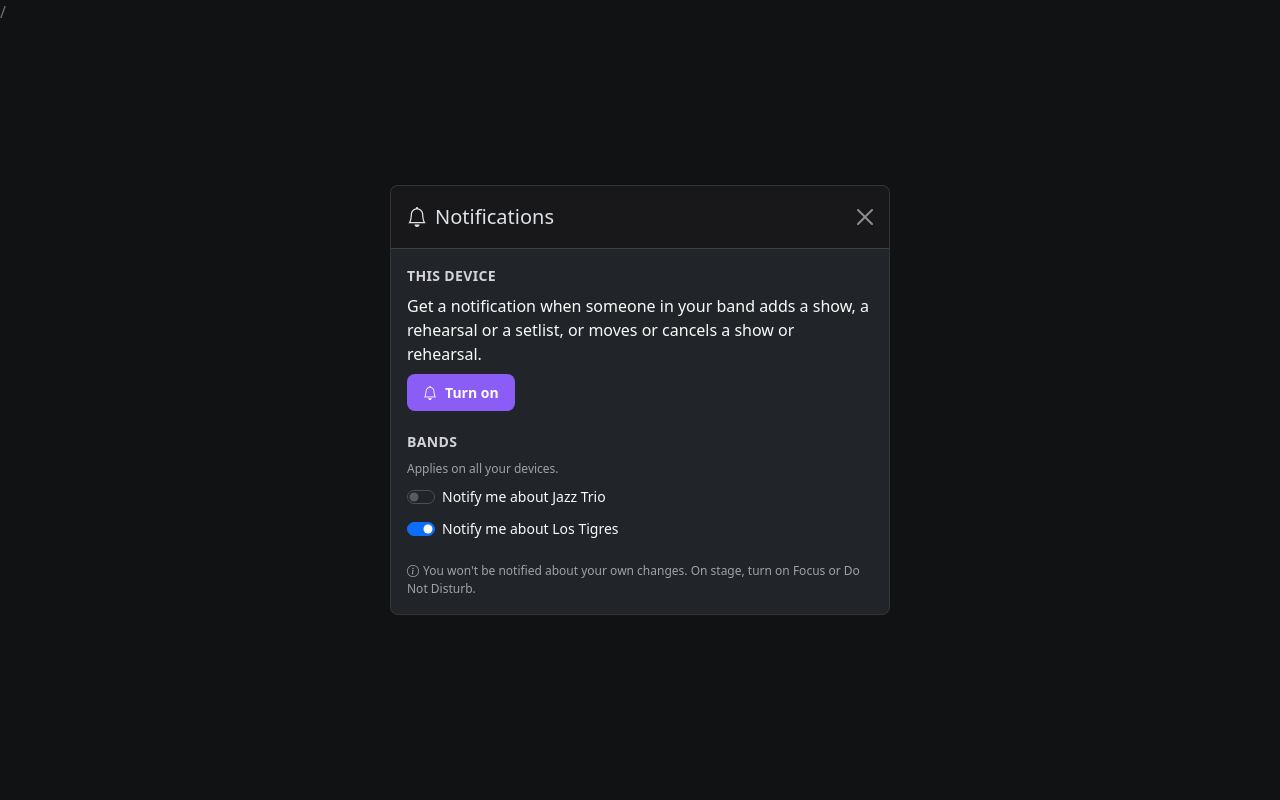
Test: NotificationSettingsModal › turns this device on and shows the band switches (muted ones off)
The width and height of the screenshot is (1280, 800).
Click the button "Turn on": click(461, 392) [407,374,515,411]
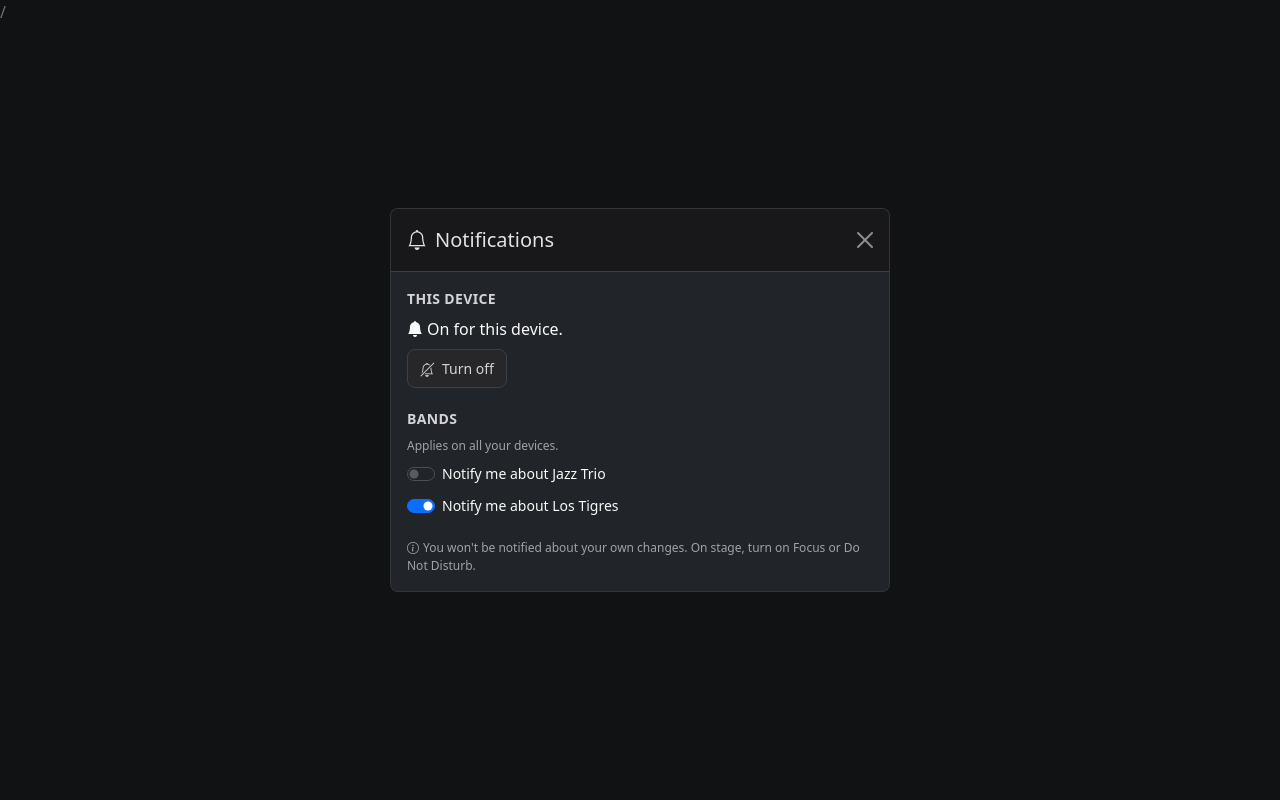
Check: the checkbox labelled "Notify me about Los Tigres" is checked, box [407,498,435,512]
Check: the text "On for this device." is shown, box [407,317,563,341]
